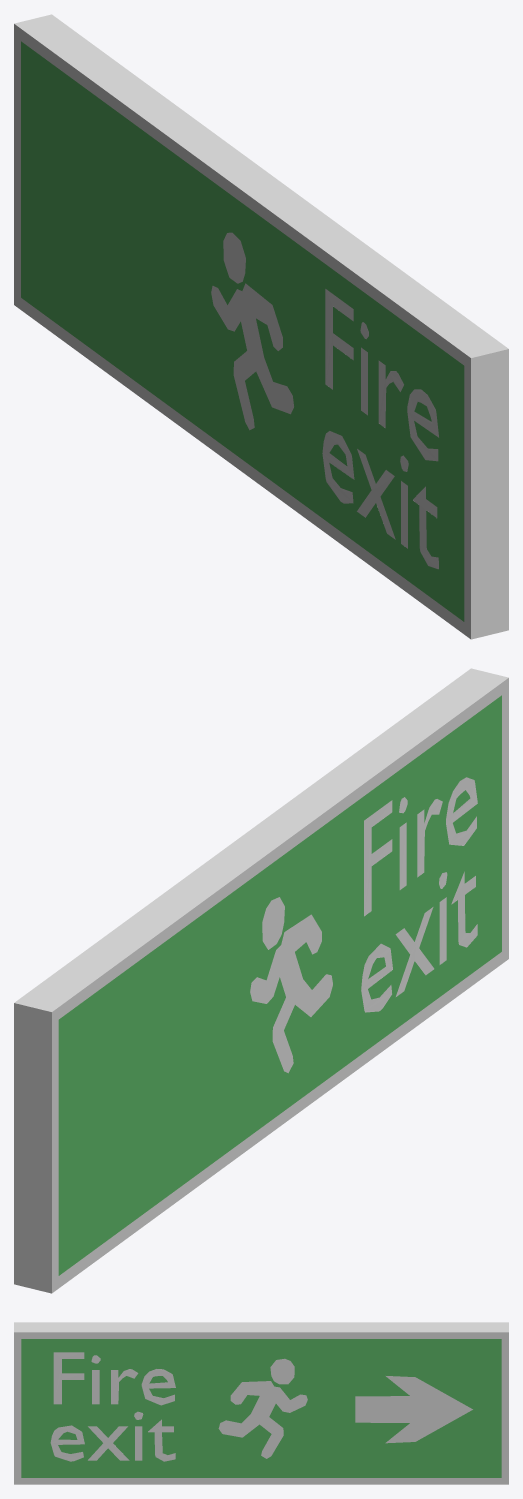
File: Fire Exit Sign.glb
The picture shows the model from 3 angles, top to bottom: view 1: azimuth 30°, elevation 25°; view 2: azimuth 150°, elevation 25°; view 3: azimuth 270°, elevation 25°; orthographic projection. The views are drawn at different scales.
Parts seen in each view (by area): view 1: Plane; view 2: Plane; view 3: Plane.
Part boxes in pixels (left/top/right/bottom): Plane: left=14, top=14, right=508, bottom=639; Plane: left=14, top=668, right=508, bottom=1293; Plane: left=14, top=1322, right=508, bottom=1484.
Bounding box in the file's own units: 0.1104 × 0.7 × 2.06.
